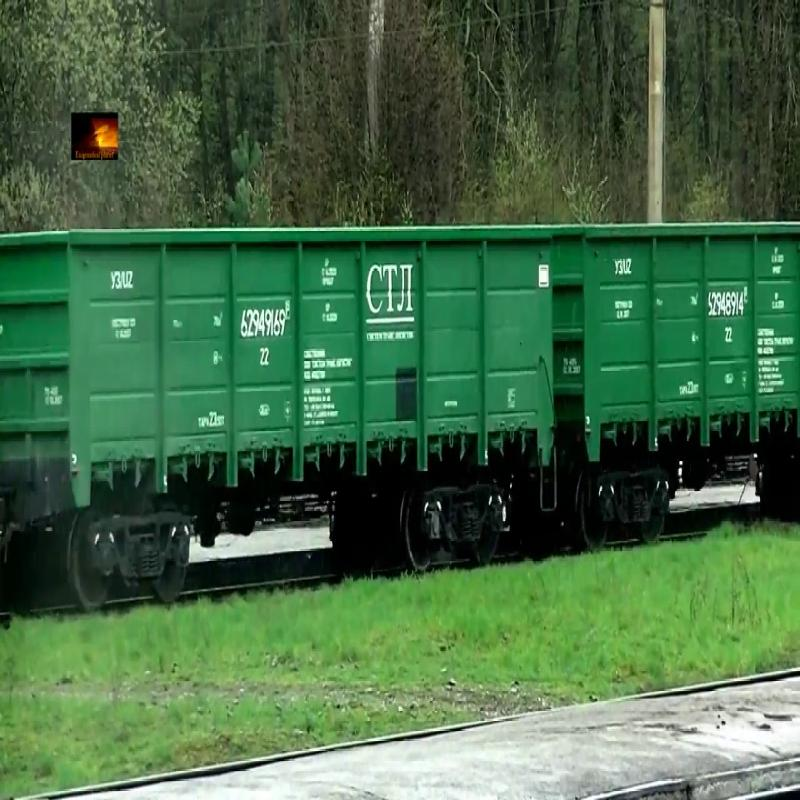train: (1, 220, 554, 516), (558, 211, 800, 514)
